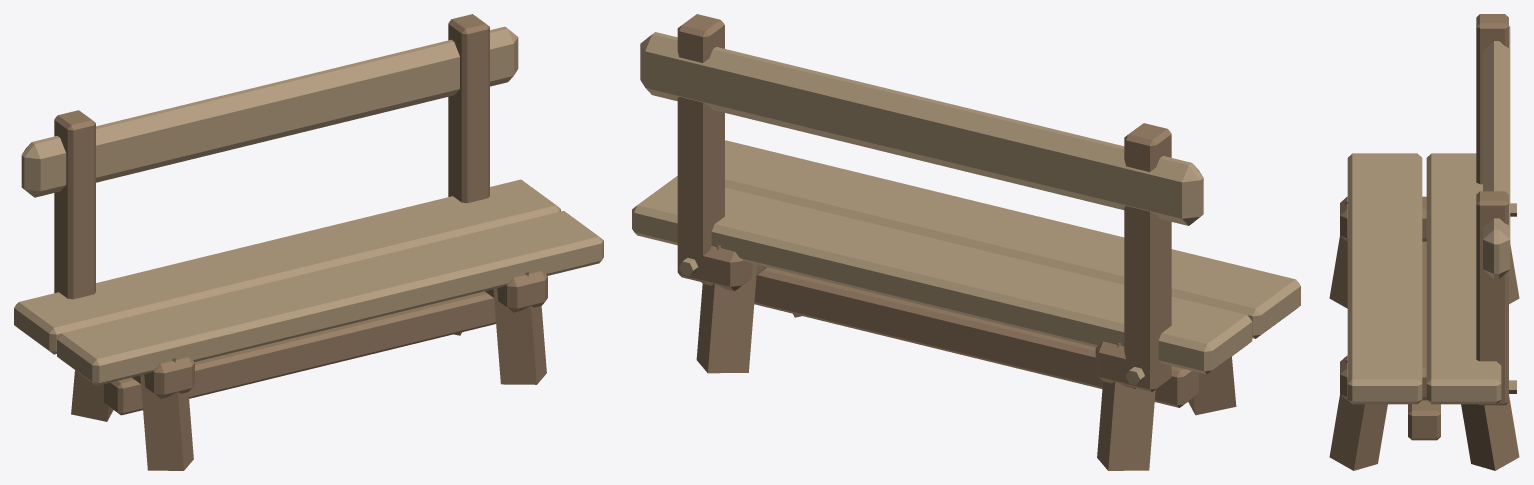
The model's file is holm_arrival_bench_v1.glb.
3 renders of one model, left to right at view 1: azimuth 30°, elevation 25°; view 2: azimuth 150°, elevation 25°; view 3: azimuth 270°, elevation 25°, orthographic. The views are drawn at different scales.
Visible parts, largest first — view 1: LandingOakBench_Landing_cut_oak, LandingOakBench_Landing_aged_oak; view 2: LandingOakBench_Landing_cut_oak, LandingOakBench_Landing_aged_oak; view 3: LandingOakBench_Landing_cut_oak, LandingOakBench_Landing_aged_oak.
Boxes of the visible parts, x1=… form: LandingOakBench_Landing_cut_oak: x1=14, y1=26, x2=603, y2=385; LandingOakBench_Landing_aged_oak: x1=54, y1=14, x2=547, y2=470; LandingOakBench_Landing_cut_oak: x1=632, y1=32, x2=1300, y2=385; LandingOakBench_Landing_aged_oak: x1=677, y1=14, x2=1236, y2=470; LandingOakBench_Landing_cut_oak: x1=1347, y1=26, x2=1516, y2=404; LandingOakBench_Landing_aged_oak: x1=1329, y1=14, x2=1519, y2=470.
Bounding box in the file's own units: 2 × 1.12 × 0.698.
